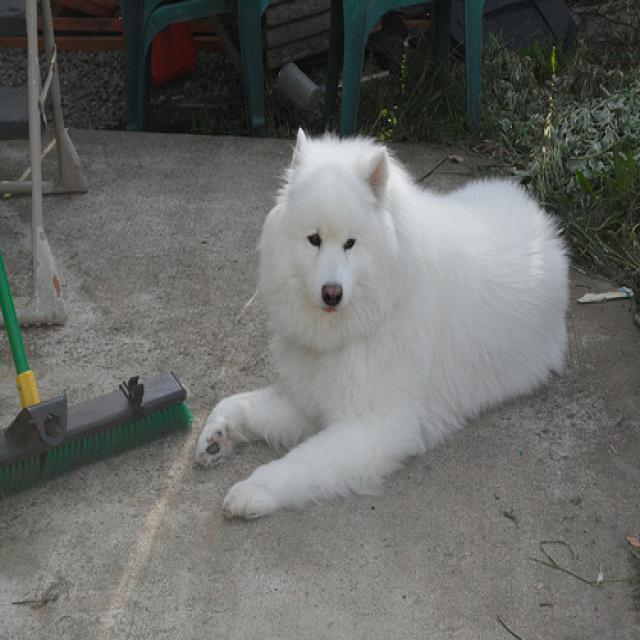dog-samoyed: (186, 118, 579, 527)
